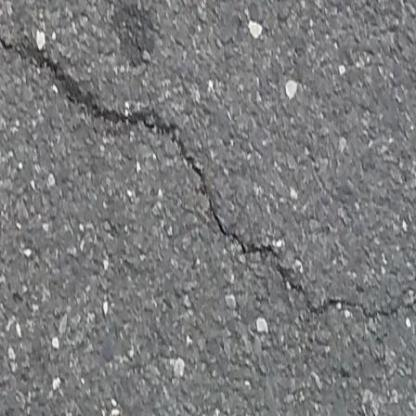Cracks: (0, 21, 388, 248)
